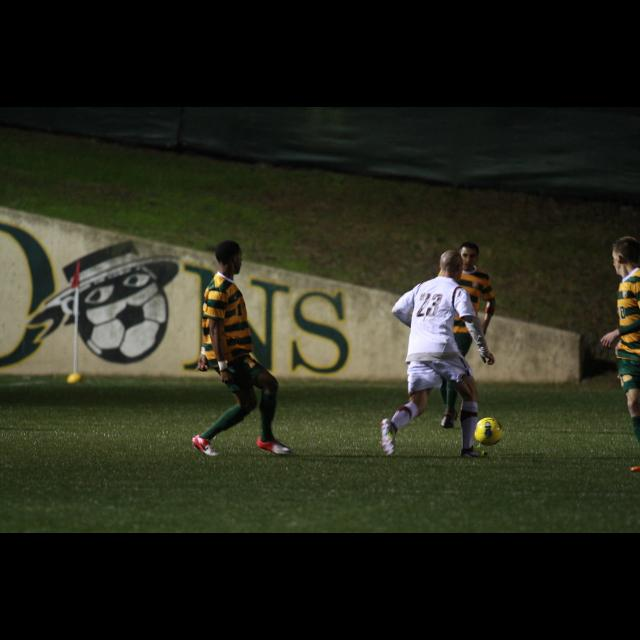Football: (473, 417, 503, 448)
